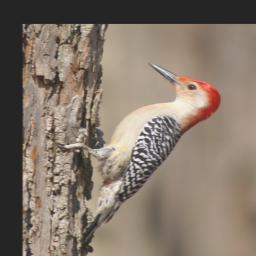Woodpecker: (54, 62, 226, 246)
